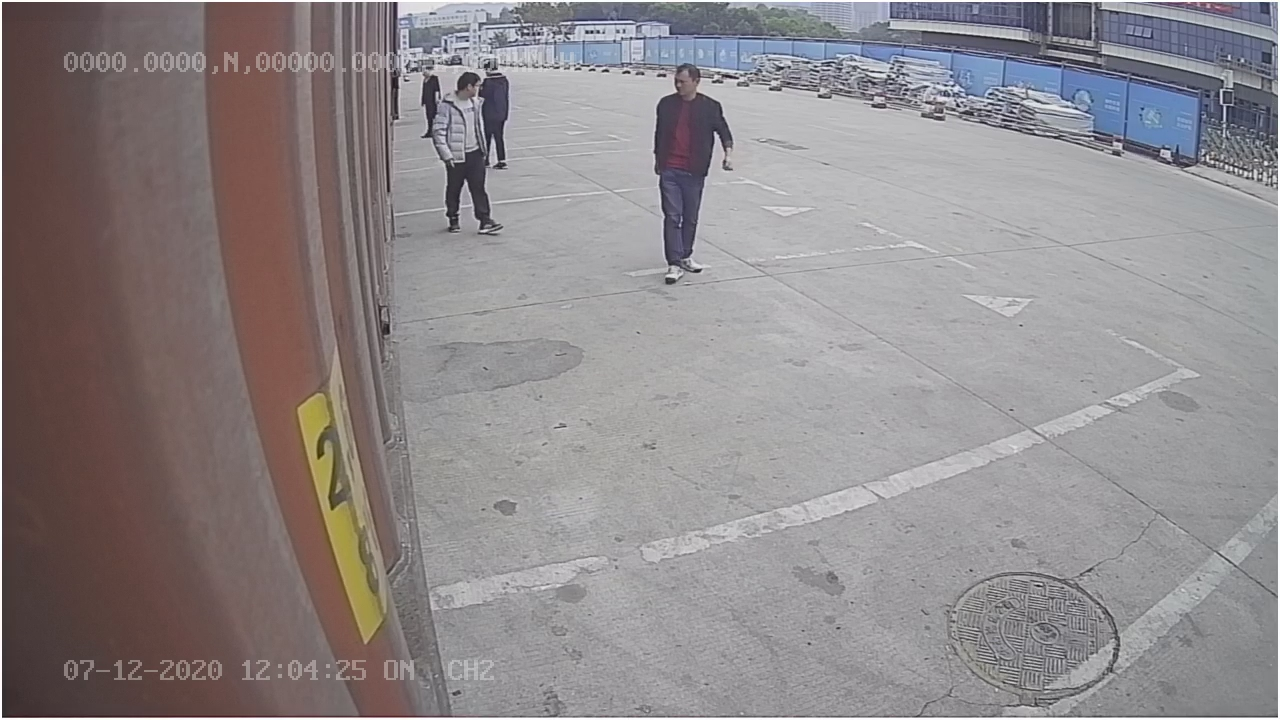person: (646, 62, 740, 283)
